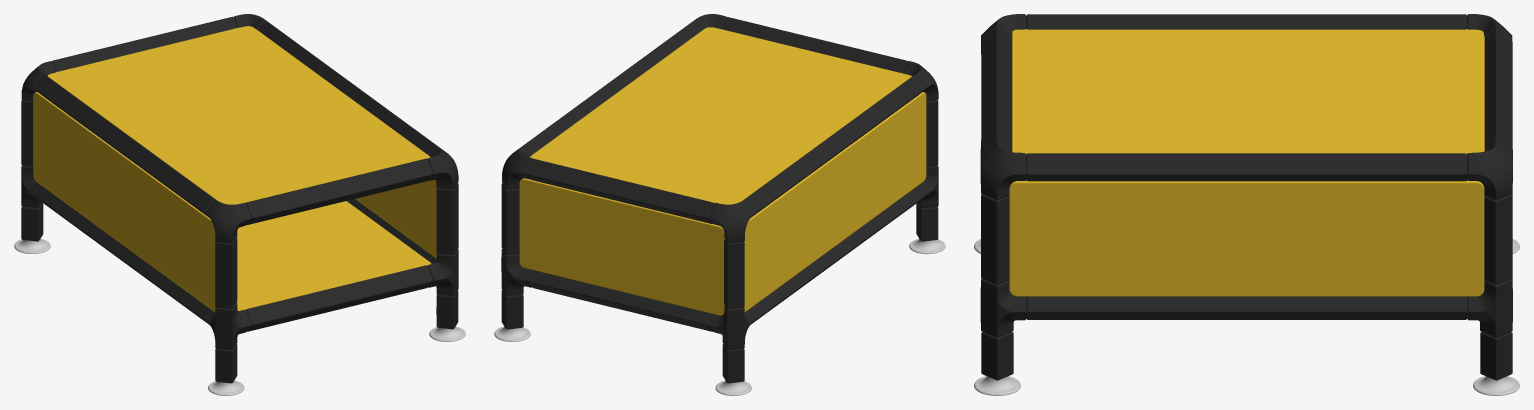
3 views of the same model, side by side, from view 1: azimuth 30°, elevation 25°; view 2: azimuth 150°, elevation 25°; view 3: azimuth 270°, elevation 25° (orthographic). The views are drawn at different scales.
Visible parts, largest first — view 1: 229x374x79; view 2: 229x374x79; view 3: 229x374x79.
Part boxes in pixels (<box>): 229x374x79: <box>14,14,465,395</box>; 229x374x79: <box>494,14,945,395</box>; 229x374x79: <box>974,14,1519,395</box>.
Bounding box in the file's own units: 0.3189 × 0.2183 × 0.4632.
